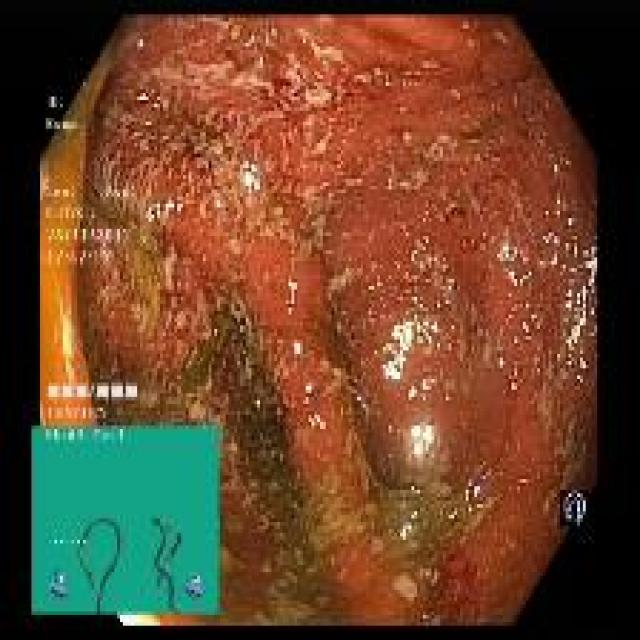ulcerative-colitis: (40, 17, 596, 624)
